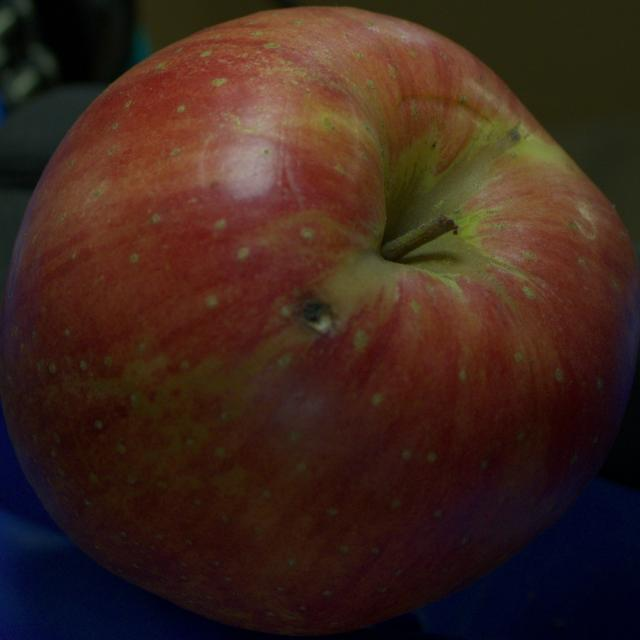apple: (0, 8, 639, 633)
pest: (300, 299, 333, 334)
scratch: (392, 92, 494, 127)
